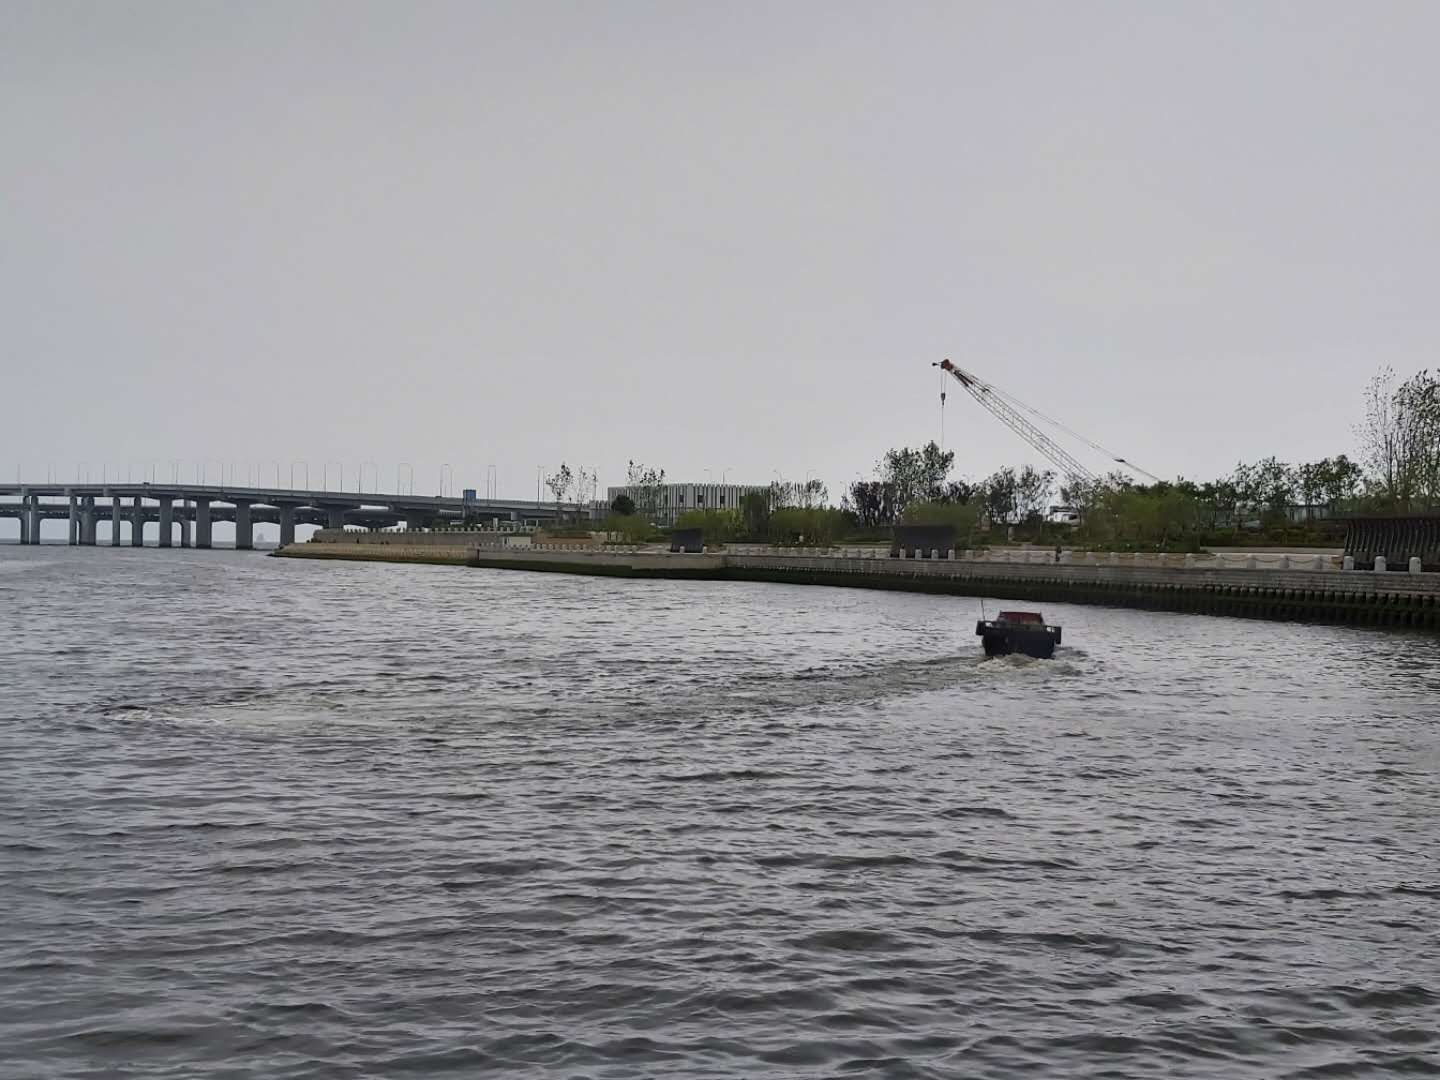boat: (965, 608, 1071, 676)
bridge: (5, 462, 319, 546)
